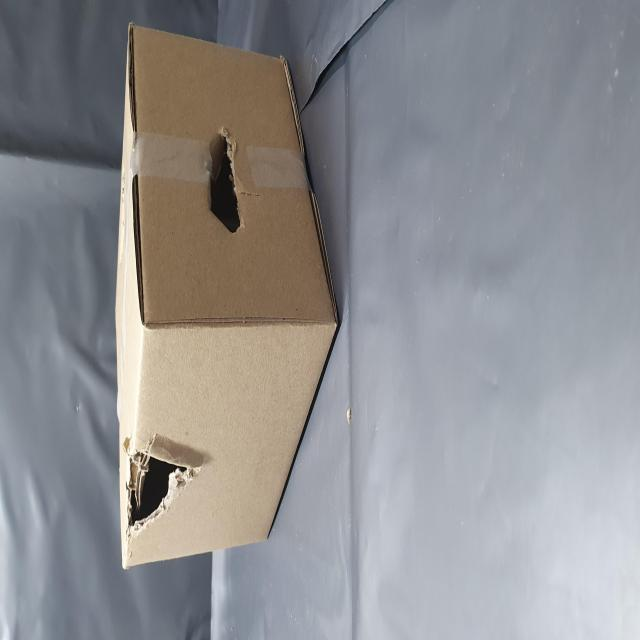damaged: (62, 215, 109, 352), (229, 367, 290, 432)
